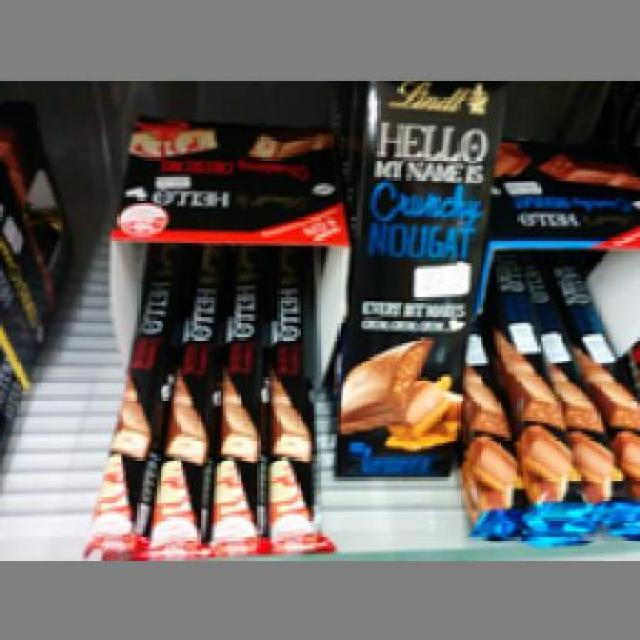Chocolate: (343, 74, 494, 477), (494, 266, 637, 514), (88, 280, 152, 557), (152, 274, 212, 554), (214, 260, 266, 557), (272, 252, 314, 552)
